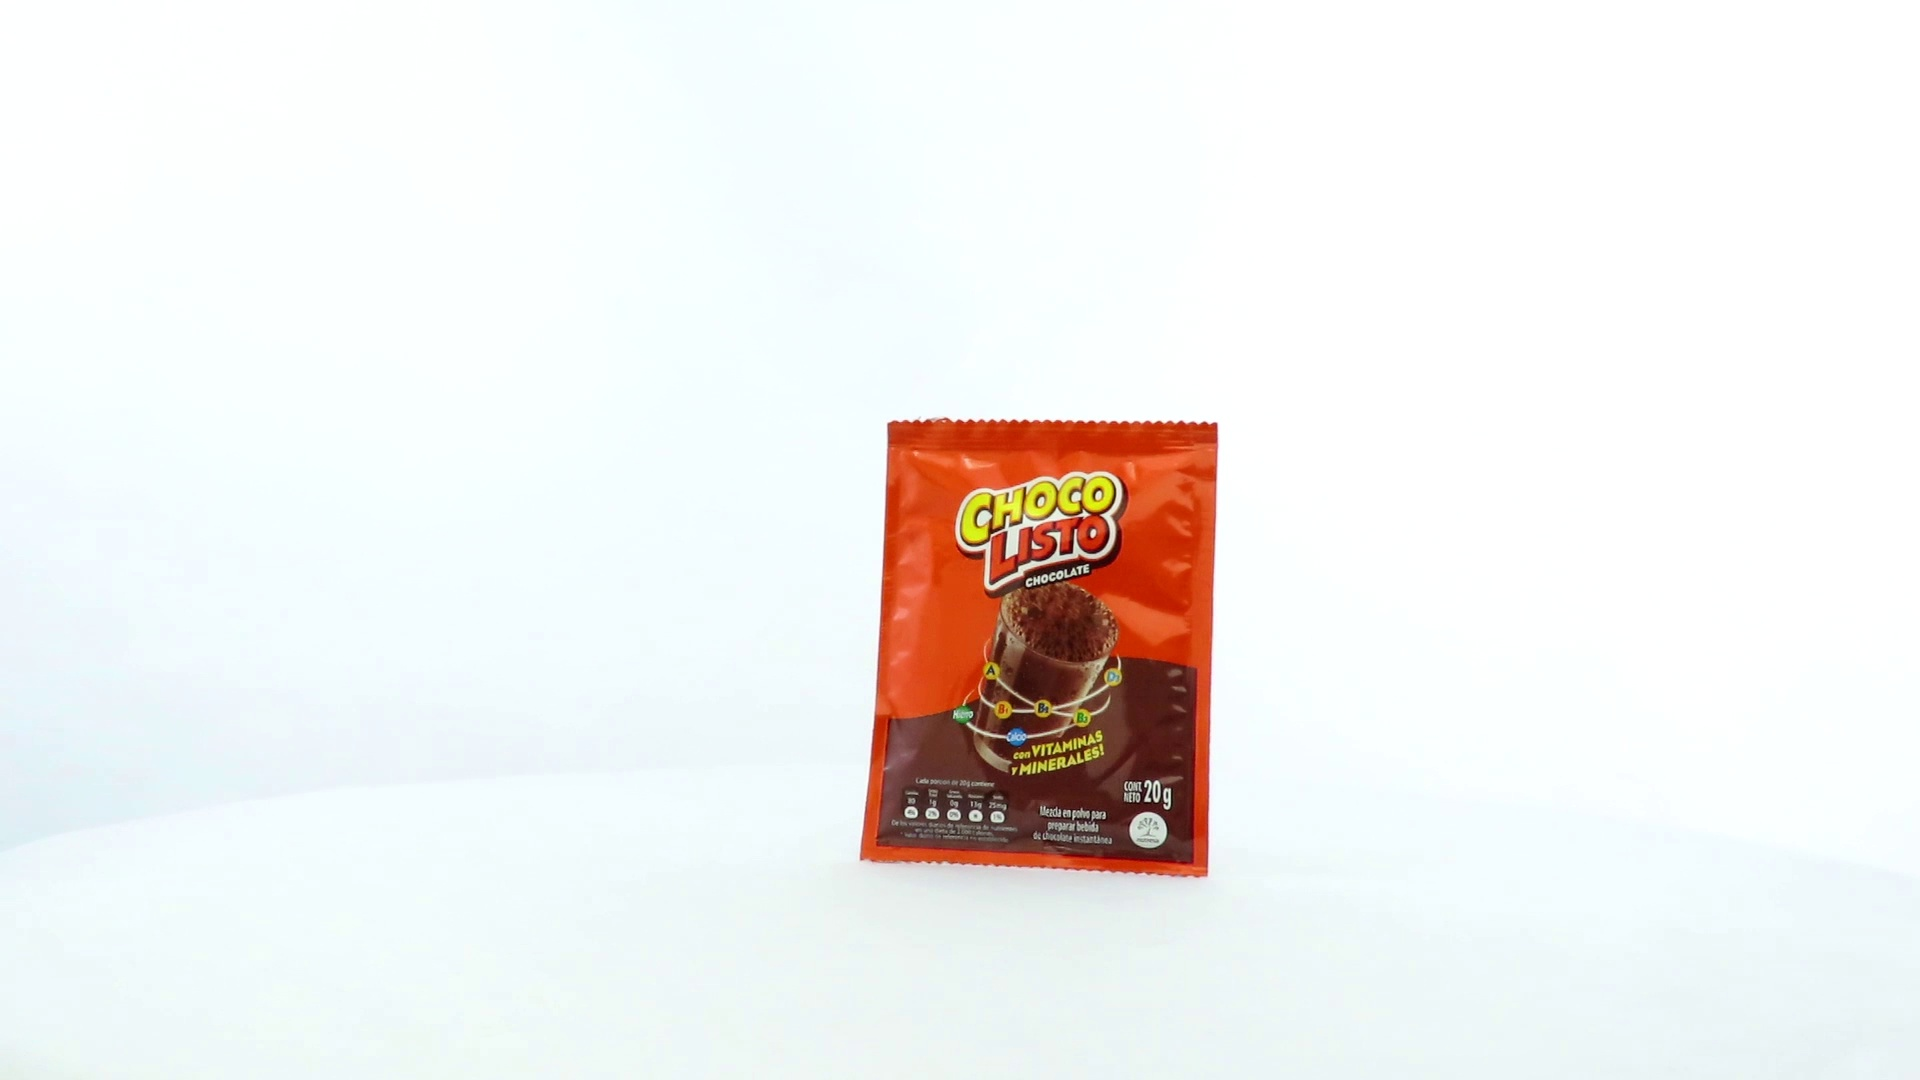COL0170103SOB02000: (855, 411, 1225, 884)
